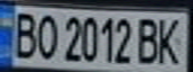0: (78, 14, 100, 63)
1: (100, 14, 118, 63)
2: (112, 13, 136, 64), (60, 11, 81, 63)
B: (6, 8, 39, 60), (136, 15, 163, 65)
K: (154, 15, 187, 65)
O: (33, 10, 60, 61)
